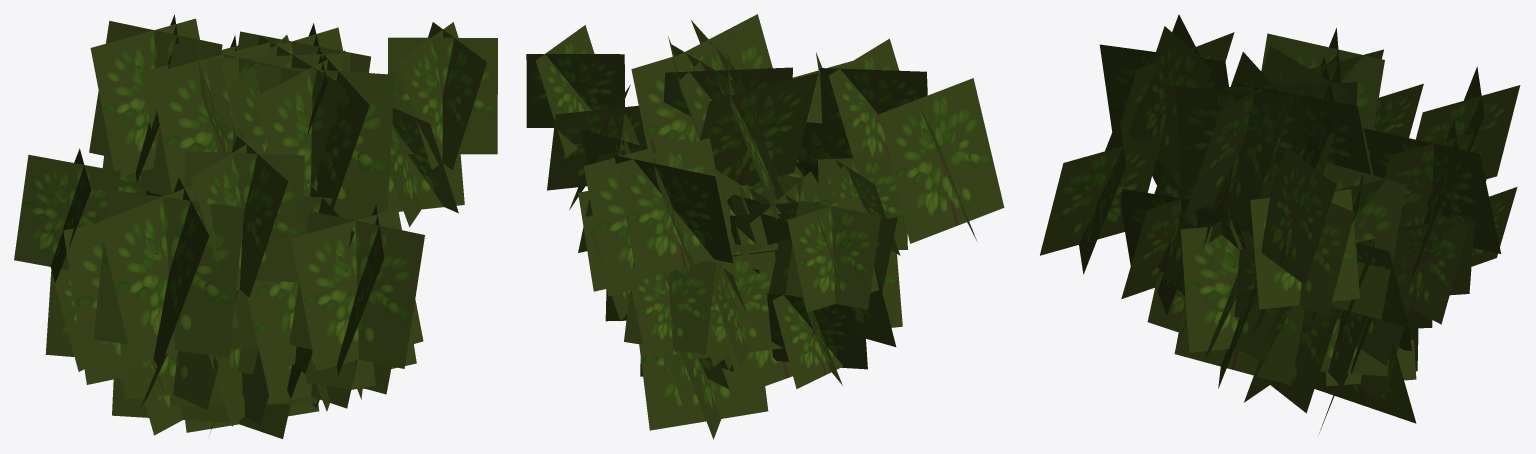
File: SM_Art_Veg_Birch_0_LeavesPale.gltf
3 renders of one model, left to right at view 1: azimuth 30°, elevation 25°; view 2: azimuth 150°, elevation 25°; view 3: azimuth 270°, elevation 25°, orthographic. The views are drawn at different scales.
Visible parts, largest first — view 1: SM_Art_Veg_Birch_0_LeavesPale; view 2: SM_Art_Veg_Birch_0_LeavesPale; view 3: SM_Art_Veg_Birch_0_LeavesPale.
Boxes of the visible parts, left/top/right/bottom form: SM_Art_Veg_Birch_0_LeavesPale: left=14, top=14, right=497, bottom=438; SM_Art_Veg_Birch_0_LeavesPale: left=526, top=14, right=1004, bottom=439; SM_Art_Veg_Birch_0_LeavesPale: left=1040, top=14, right=1520, bottom=433.
Bounding box in the file's own units: 5.28 × 4.07 × 5.22.
Materials: 1 (1 with a texture image).
